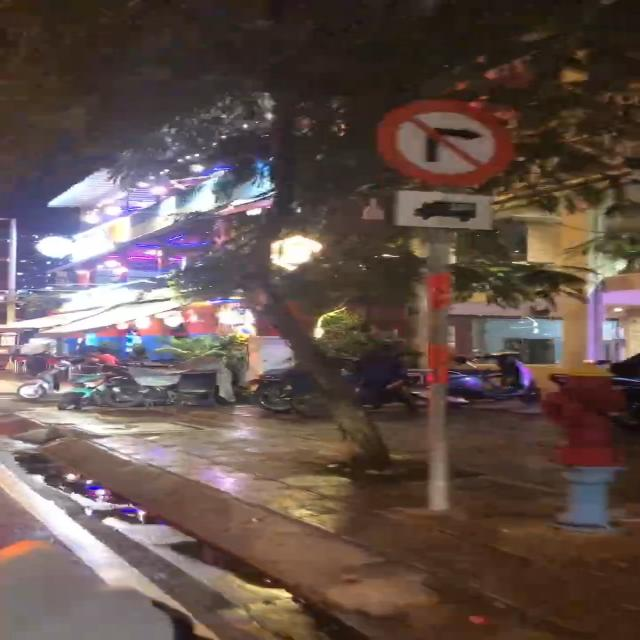Bien bao cam re phai: (369, 85, 522, 191)
